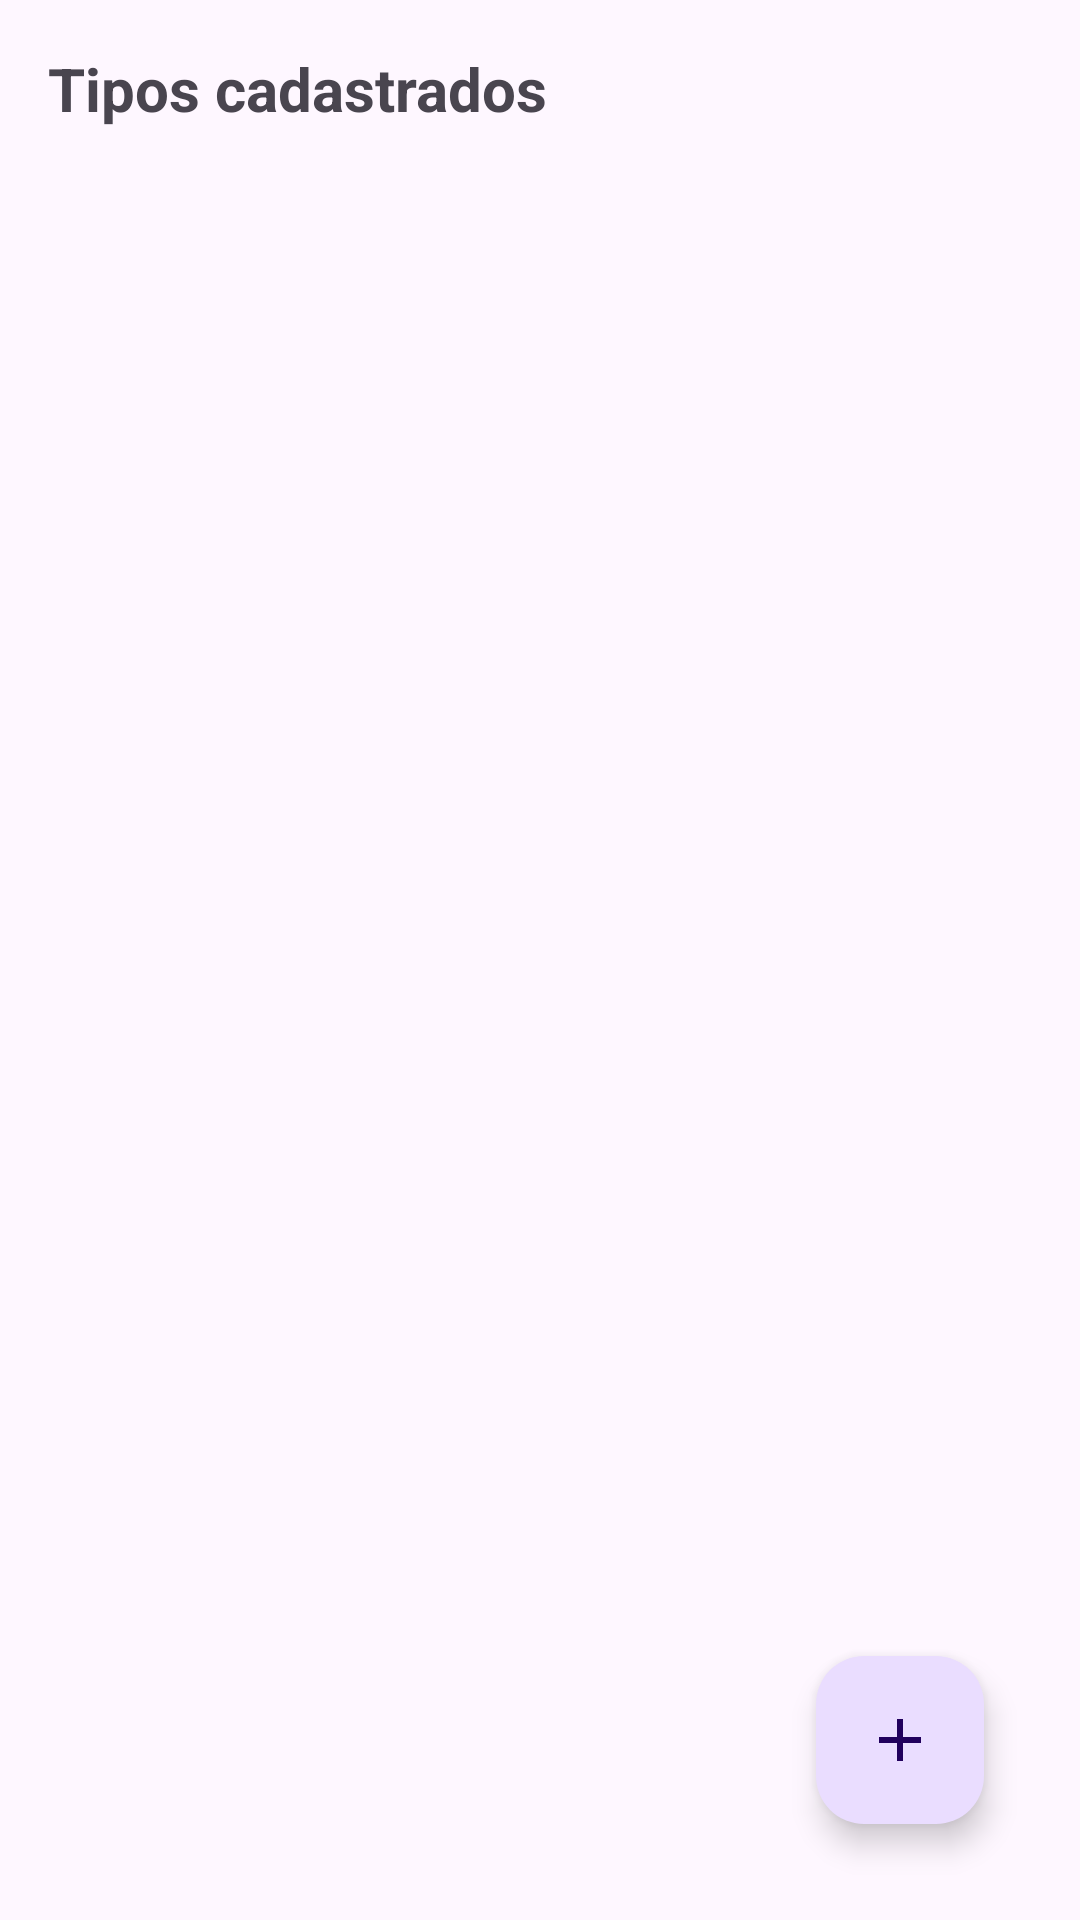

Where icons sit on this 1080 × 1920 app screen, as (x1, y1, x2, y2):
Add ActivityType: (816, 1656, 984, 1824)
